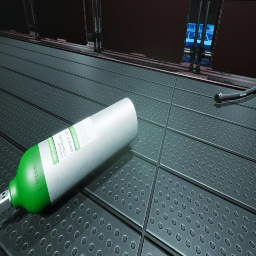0: (0, 98, 138, 215)
NitrogenTank ,: (94, 10, 95, 15)
